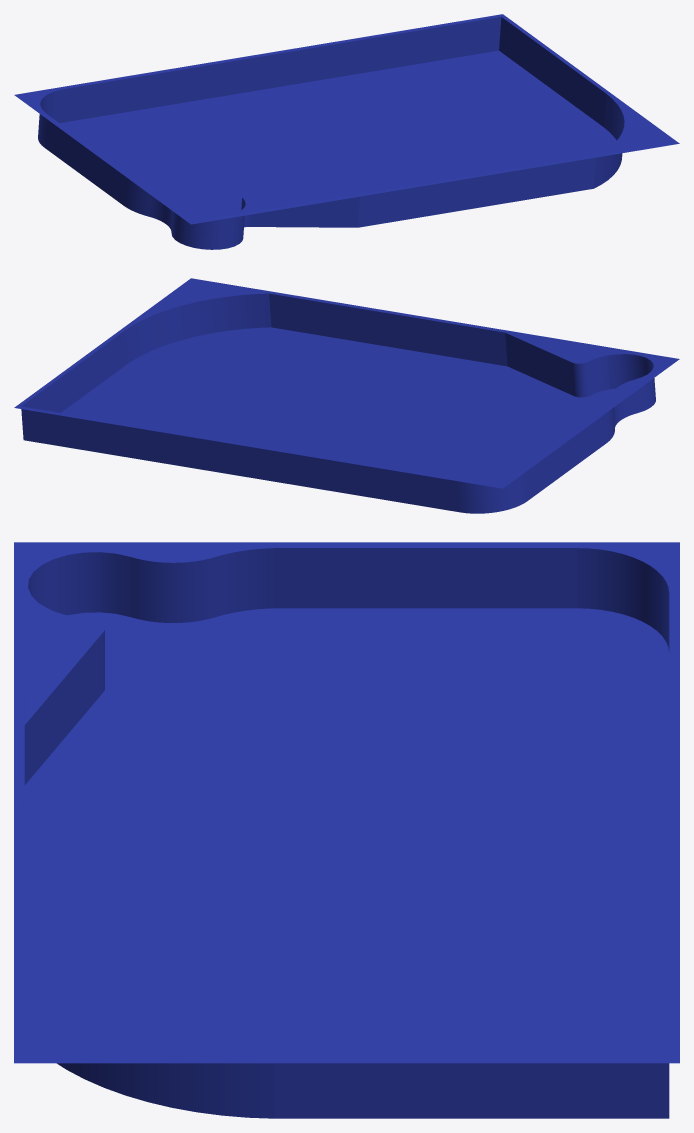
The model's file is PrincipalMesh.FBX.
3 renders of one model, top to bottom at view 1: azimuth 30°, elevation 25°; view 2: azimuth 150°, elevation 25°; view 3: azimuth 270°, elevation 25°, orthographic. The views are drawn at different scales.
Parts seen in each view (by area): view 1: Mesh05; view 2: Mesh05; view 3: Mesh05.
Boxes of the visible parts, bbox=[...] form: Mesh05: bbox=[14, 14, 679, 249]; Mesh05: bbox=[14, 278, 679, 513]; Mesh05: bbox=[14, 542, 679, 1118].
Bounding box in the file's own units: 361 × 50.31 × 227.
